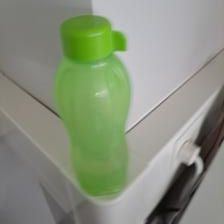bottle: (55, 13, 134, 197)
